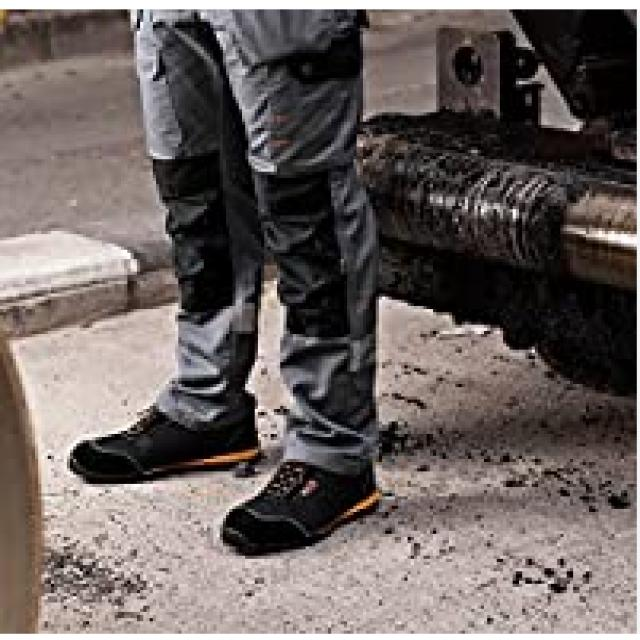boots: (62, 373, 389, 558)
